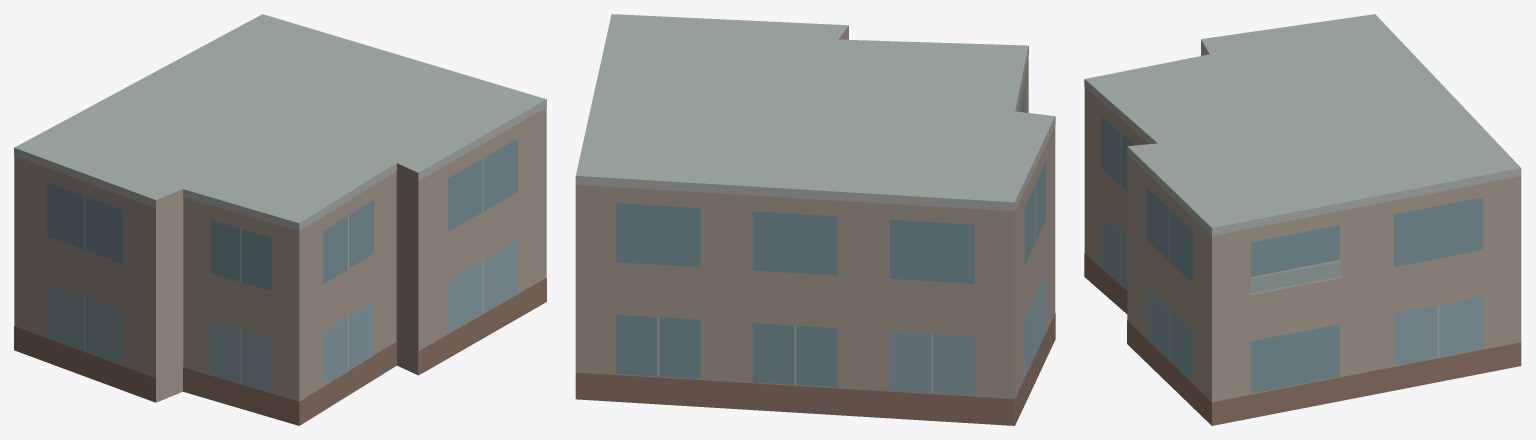
File: survey-upis-32895141.glb
3 renders of one model, left to right at view 1: azimuth 30°, elevation 25°; view 2: azimuth 150°, elevation 25°; view 3: azimuth 270°, elevation 25°, orthographic. The views are drawn at different scales.
Parts seen in each view (by area): view 1: survey-upis-32895141.tmp; view 2: survey-upis-32895141.tmp; view 3: survey-upis-32895141.tmp.
Part boxes in pixels (x1,y1,x2,y2): survey-upis-32895141.tmp: [14, 14, 546, 425]; survey-upis-32895141.tmp: [575, 14, 1055, 425]; survey-upis-32895141.tmp: [1084, 14, 1521, 425].
Size of the model in its own units: 14.16 by 6.1 by 12.22.
